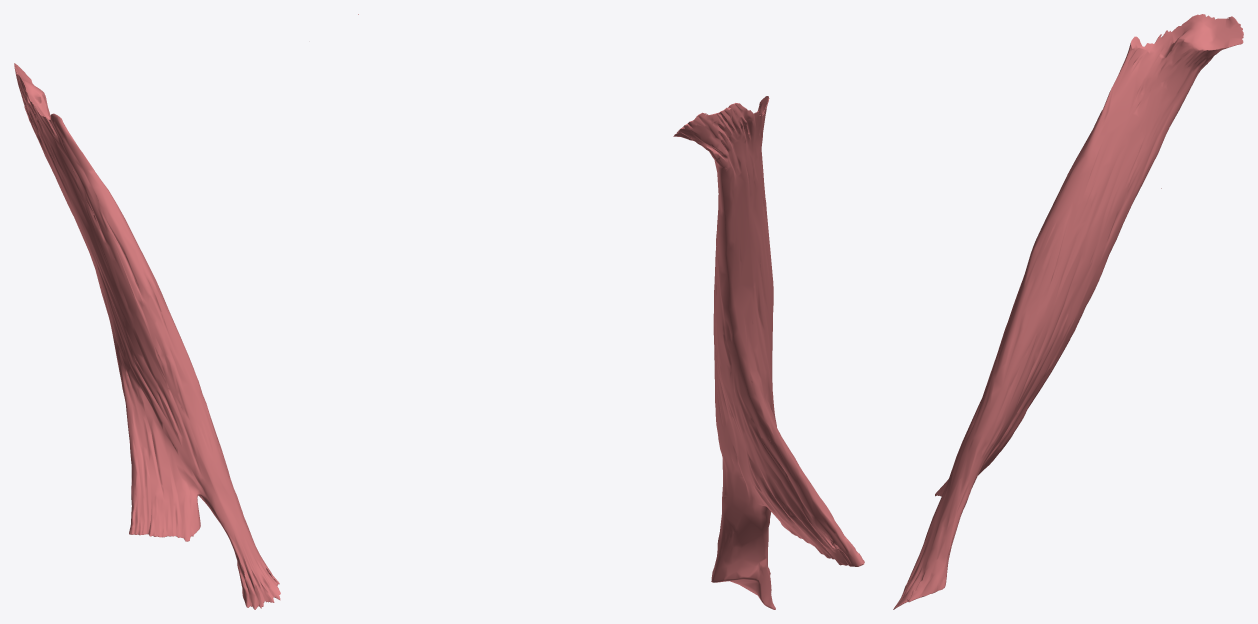
3 views of the same model, side by side, from view 1: azimuth 30°, elevation 25°; view 2: azimuth 150°, elevation 25°; view 3: azimuth 270°, elevation 25° (orthographic). The views are drawn at different scales.
Visible parts, largest first — view 1: FJ1595; view 2: FJ1595; view 3: FJ1595.
Part boxes in pixels (x1=…): FJ1595: x1=14, y1=63, x2=280, y2=609; FJ1595: x1=358, y1=14, x2=864, y2=609; FJ1595: x1=893, y1=14, x2=1243, y2=609.
Size of the model in its own units: 0.1238 by 0.2002 by 0.119.
